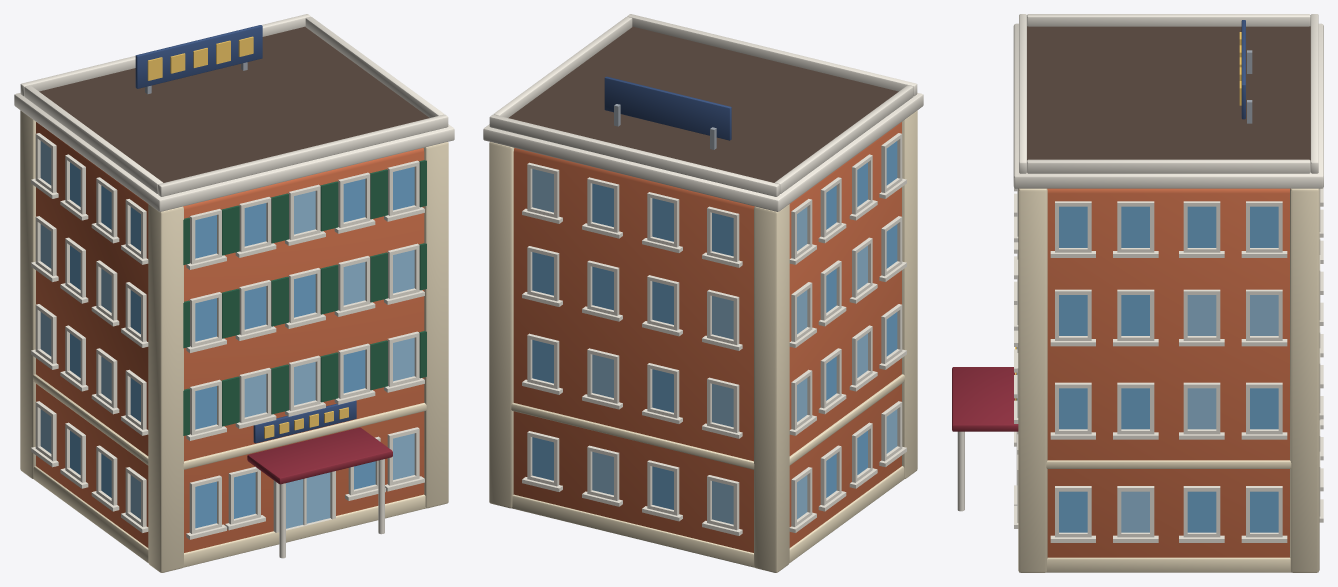
Rendered from building_hotel.glb.
The picture shows the model from 3 angles, left to right: view 1: azimuth 30°, elevation 25°; view 2: azimuth 150°, elevation 25°; view 3: azimuth 270°, elevation 25°; orthographic projection. The views are drawn at different scales.
Parts seen in each view (by area): view 1: building; view 2: building; view 3: building.
Boxes of the visible parts, left/top/right/bottom form: building: left=14, top=14, right=454, bottom=572; building: left=483, top=14, right=923, bottom=572; building: left=952, top=14, right=1323, bottom=572.
Size of the model in its own units: 9.88 by 13.42 by 10.12.
